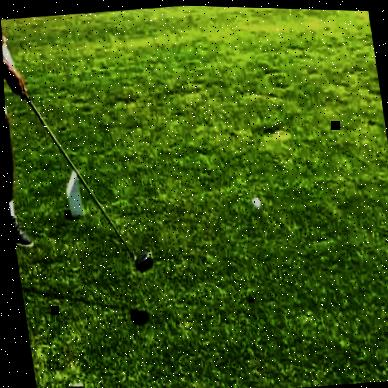ClubHead: (249, 195, 260, 210)
GolfBall: (126, 245, 152, 273)
